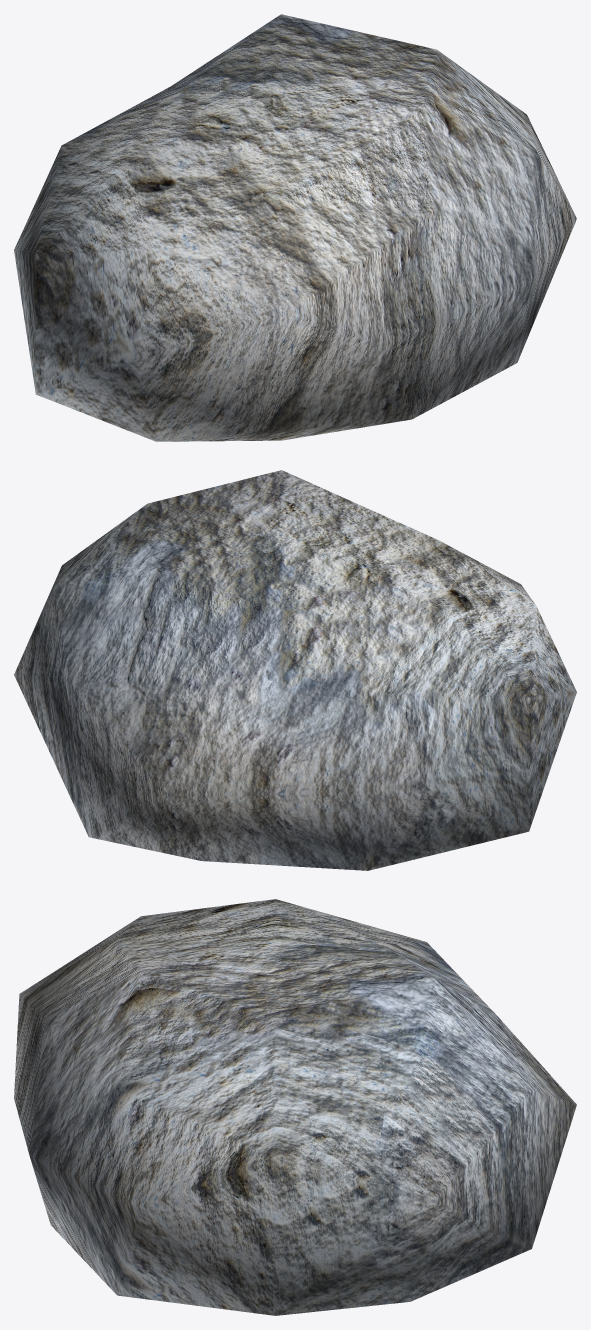
Rendered from rock.fbx.
3 renders of one model, top to bottom at view 1: azimuth 30°, elevation 25°; view 2: azimuth 150°, elevation 25°; view 3: azimuth 270°, elevation 25°, orthographic. The views are drawn at different scales.
Parts seen in each view (by area): view 1: Mesh; view 2: Mesh; view 3: Mesh.
Part boxes in pixels (x1,y1,x2,y2): Mesh: (14,14,576,441); Mesh: (14,470,576,870); Mesh: (14,899,576,1315).
Bounding box in the file's own units: 1.98 × 1.15 × 1.87.
